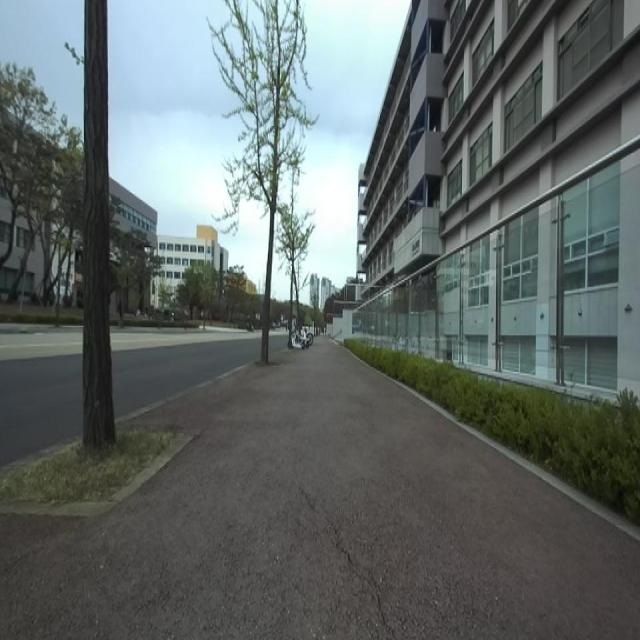sidewalk: (0, 339, 640, 638), (350, 352, 640, 541), (0, 434, 194, 516), (115, 365, 248, 423)
